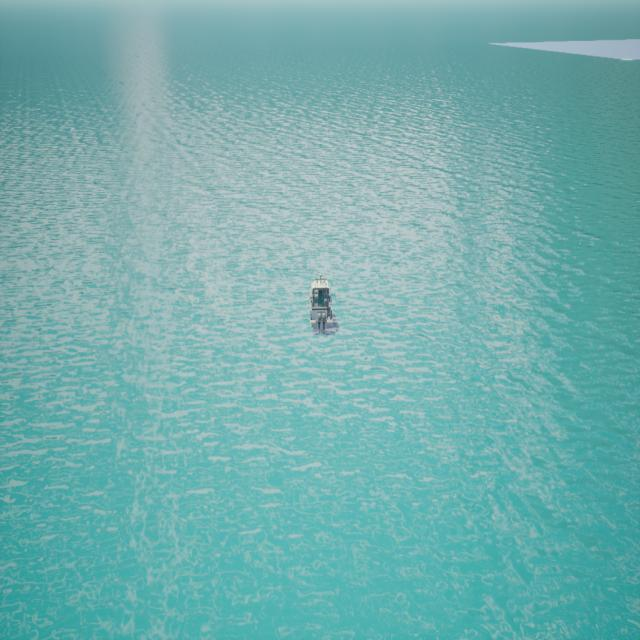ship: (308, 277, 337, 334)
